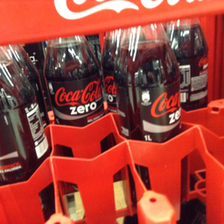soda: (118, 25, 182, 141), (1, 47, 49, 185), (43, 34, 105, 127)
